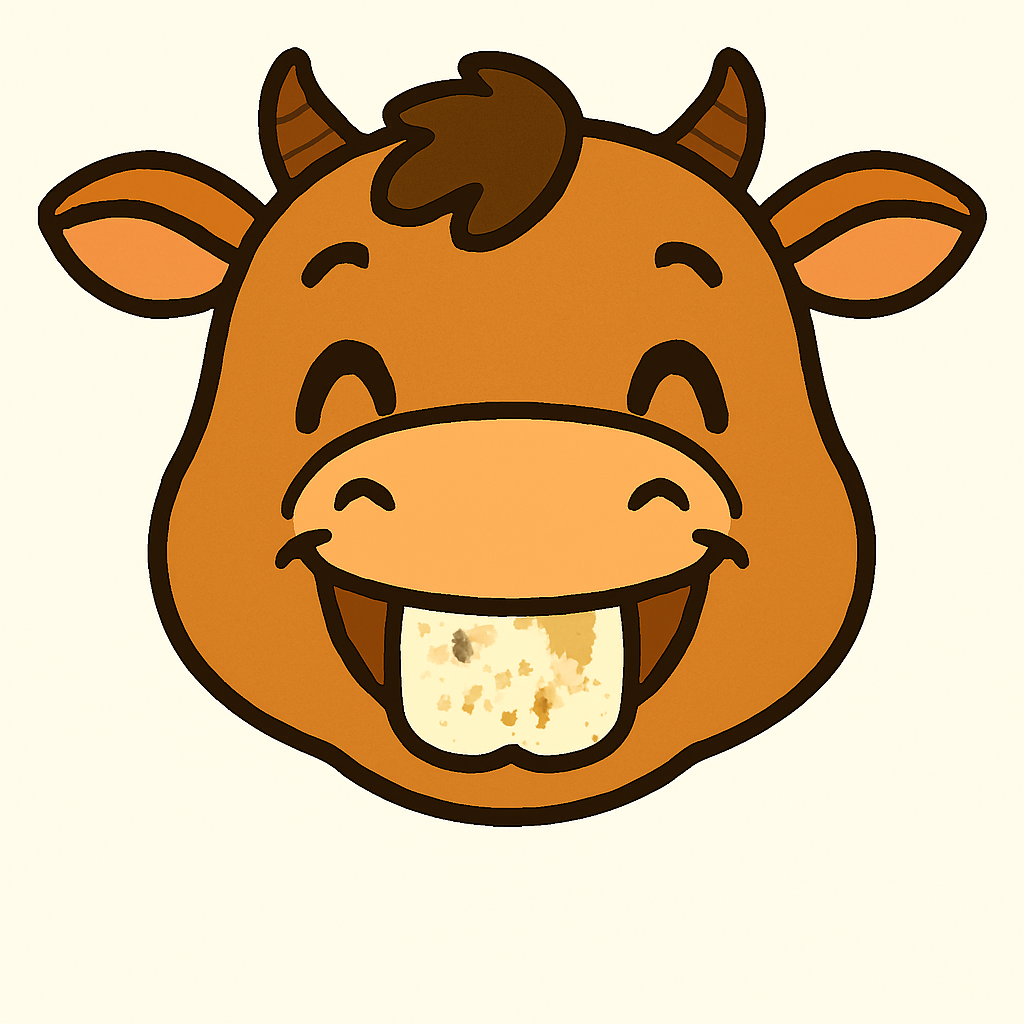Tand: (391, 592, 637, 769)
